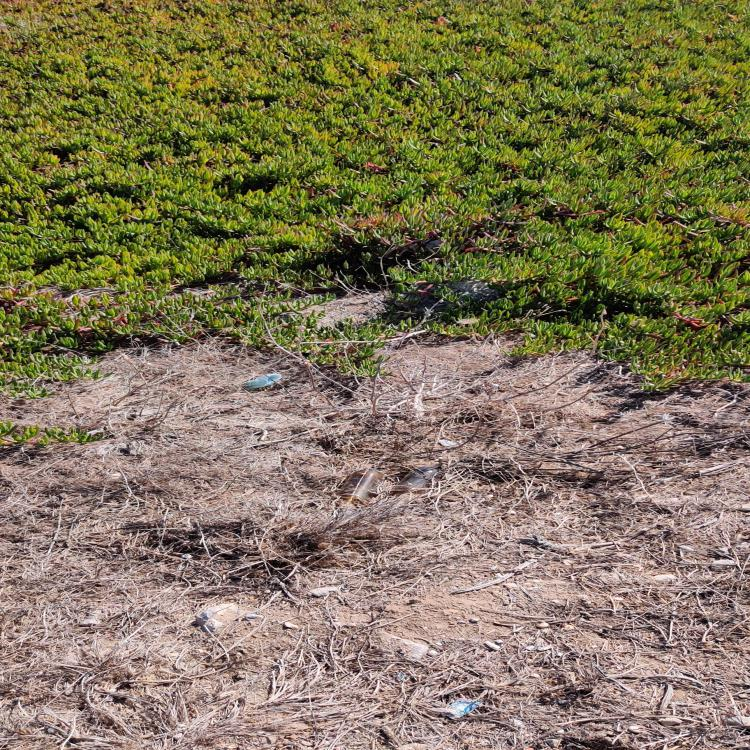Clear plastic bottle: (245, 374, 282, 390)
Glass bottle: (336, 470, 384, 505), (390, 467, 442, 497)
Other plastic: (444, 699, 482, 719)
